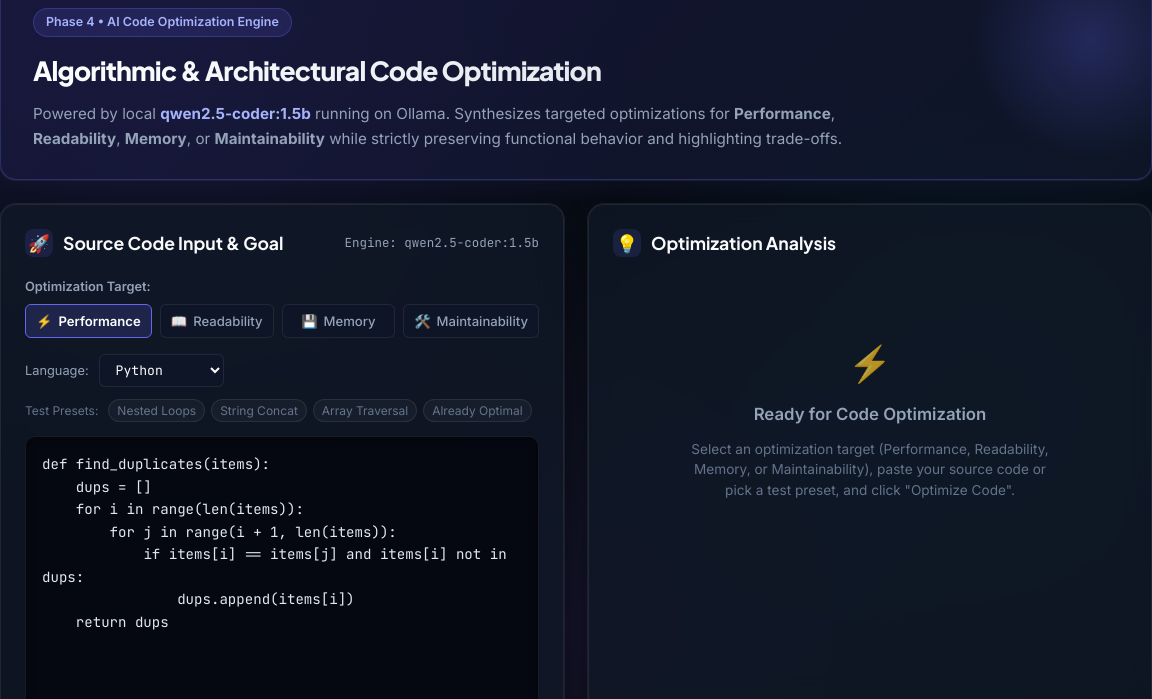
Test: CodeOptimizerView Feature Integration › displays already optimal badge and empty changes state when no improvement is needed
The width and height of the screenshot is (1152, 699).
# Select the Already Optimal preset
Click the button "Already Optimal" at (477, 411), box 423,399 -> 532,422
(page scrolled)
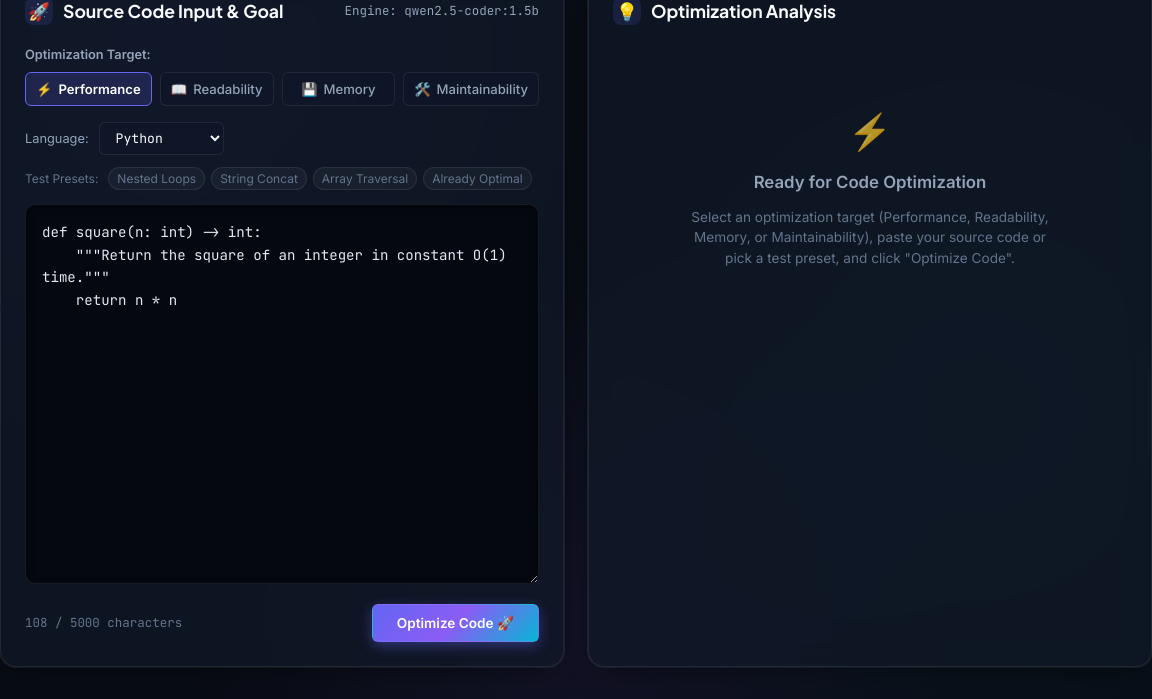
Click the button named "Optimize Code with AI" at (455, 623), box 372,604 -> 539,642
(page scrolled)
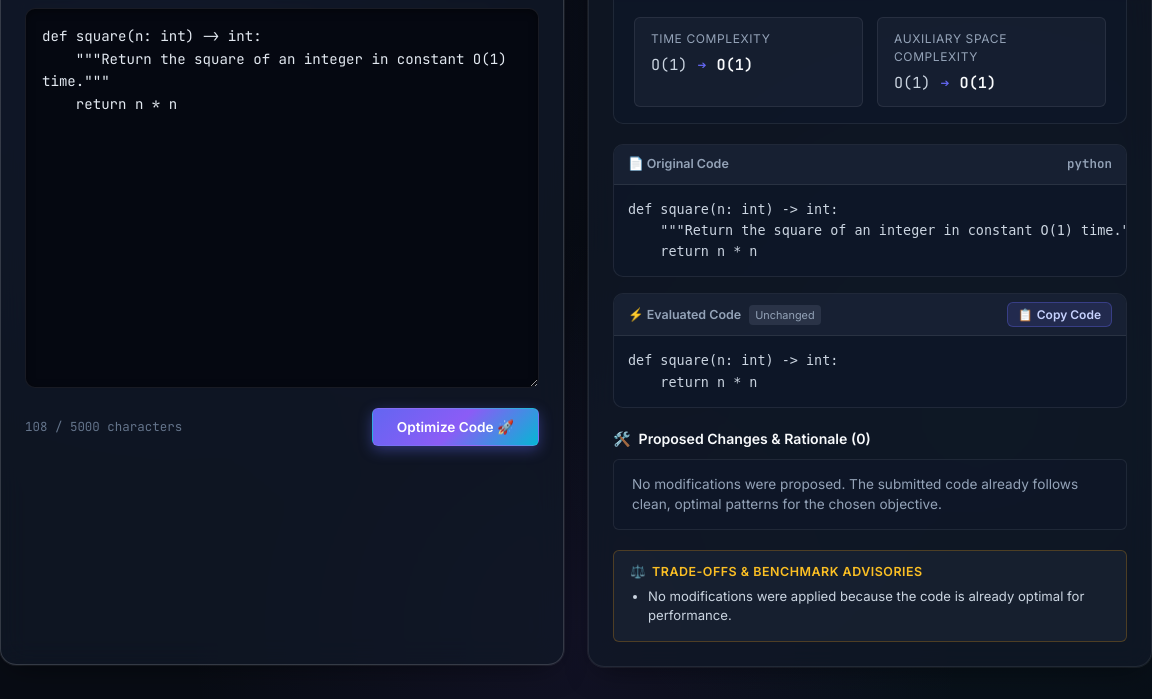
Now the text "No modifications were proposed" is shown, box 632,476 -> 1078,512
